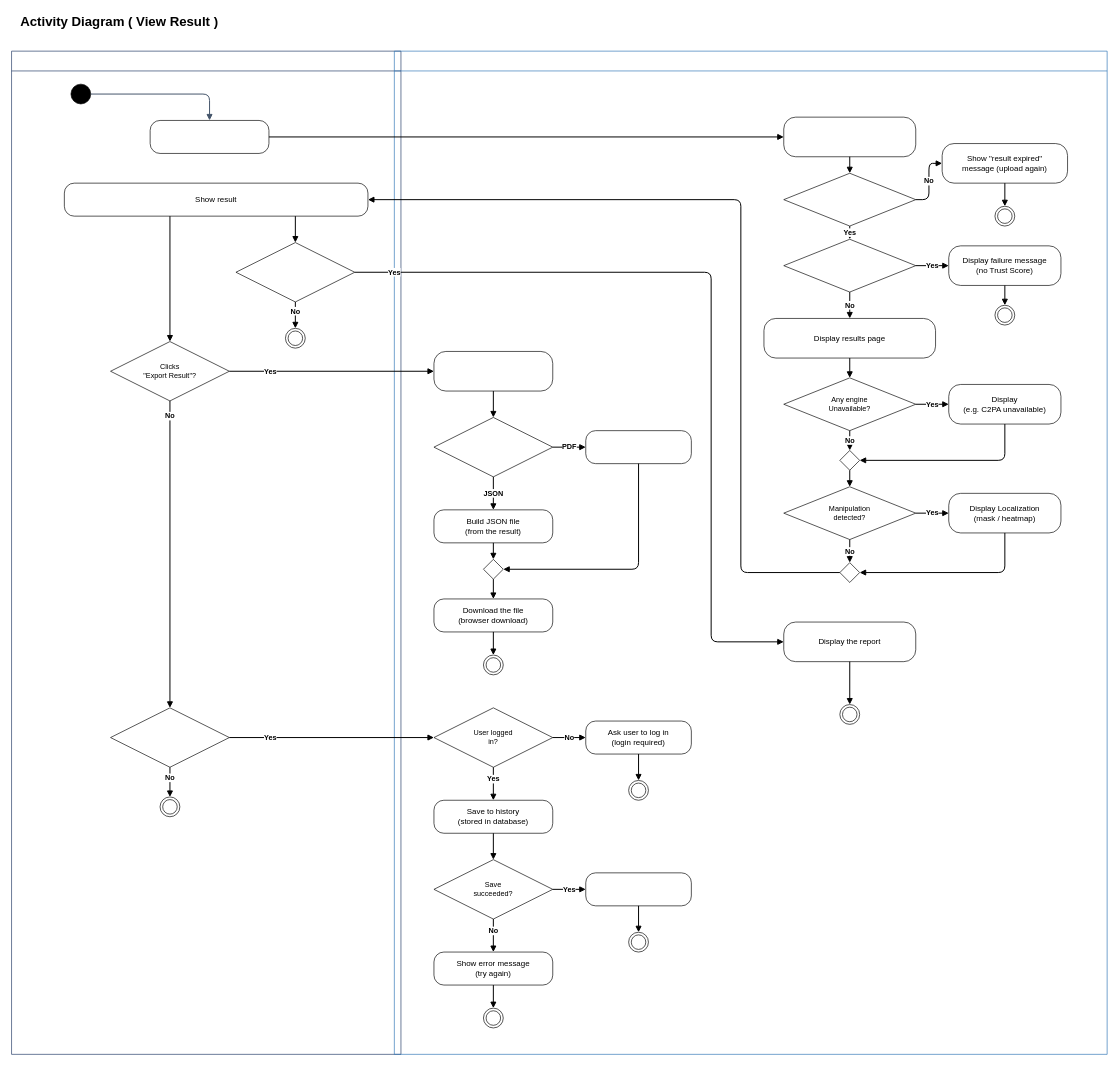
Some shapes in this 1119 by 1066 pixel diagram are drawn without their labels. The centre of each missing label's shape, as x and y in pixels:
Analysis Failed?: the point at 849,265
Click View Results: the point at 209,136
Clicks "Save to History"?: the point at 169,737
Clicks "Show Report"?: the point at 295,272
Generate PDF (from the result): the point at 638,447
Read result JSON (current session): the point at 849,136
Result available?: the point at 849,199
Selected format?: the point at 493,447
Show confirmation (saved to history): the point at 638,889
Show export options (PDF or JSON): the point at 493,371
